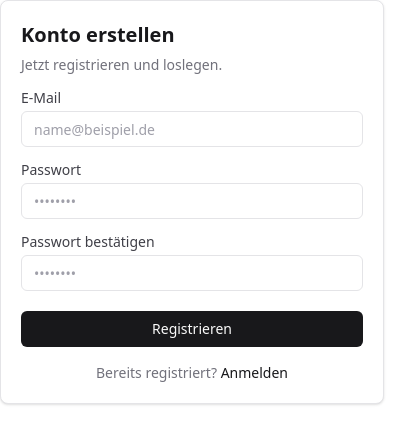
RegisterForm (Integration) › zeigt Validierungsfehler bei ungültiger E-Mail
The image size is (401, 444).
Type "keine-email" into the field labelled "E-Mail". click: (192, 129)
box: [21, 111, 363, 147]
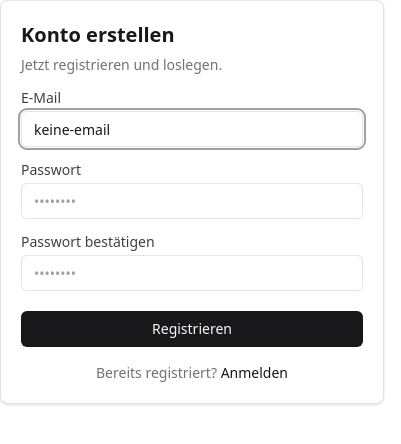
Type "passwort123" into the password field labelled "Passwort". click: (192, 201)
box: [21, 183, 363, 219]
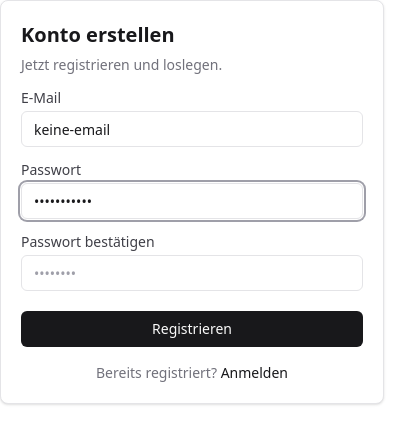
Type "passwort123" into the password field labelled "Passwort bestätigen". click: (192, 273)
box: [21, 255, 363, 291]
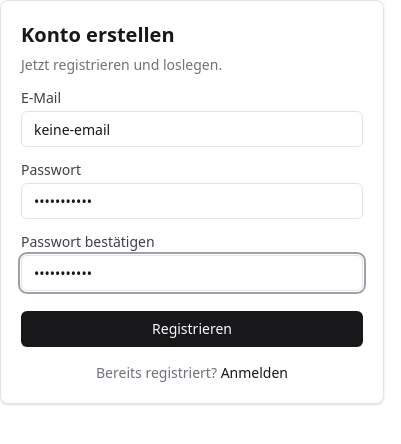
Click the button "Registrieren". click: (192, 329)
box: [21, 311, 363, 347]
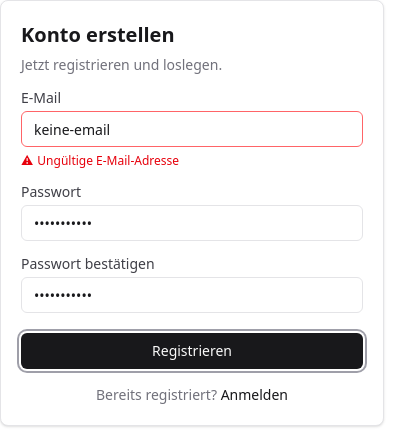
Now the text "⚠ Ungültige E-Mail-Adresse" is shown, box [21, 152, 179, 169]
